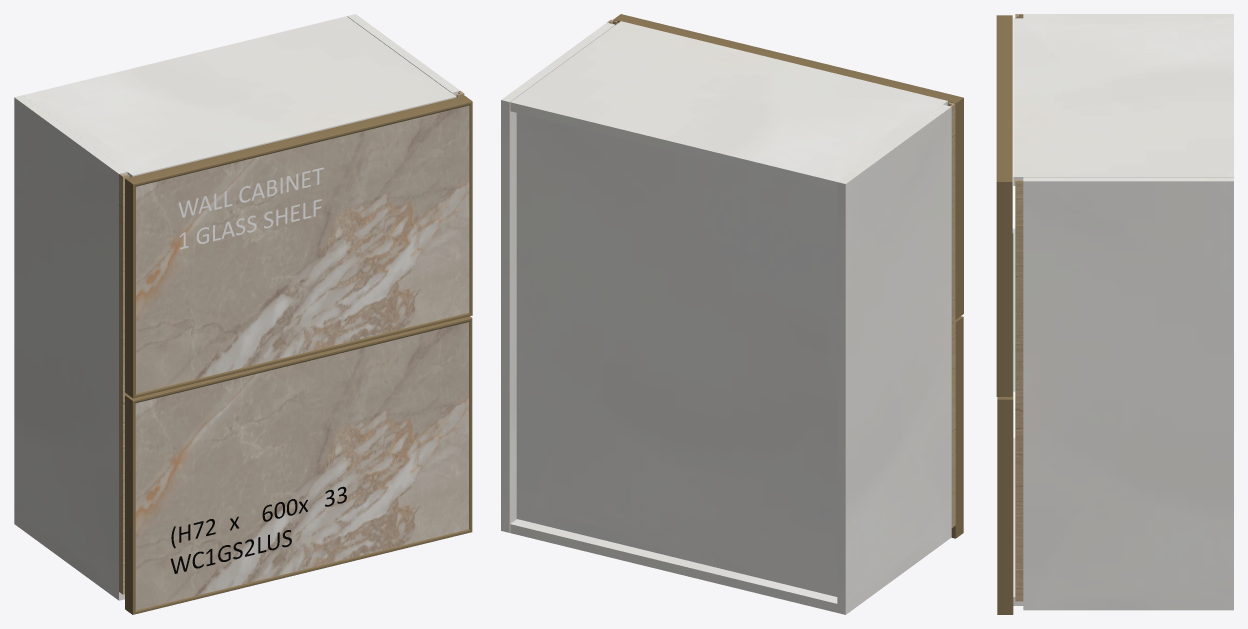
The model's file is WC-LU-NHX-ST-1SG-XXX-XXX-600-725-336-15.glb.
3 views of the same model, side by side, from view 1: azimuth 30°, elevation 25°; view 2: azimuth 150°, elevation 25°; view 3: azimuth 270°, elevation 25° (orthographic).
Visible parts, largest first — view 1: Object_node_4, Object_node_6, TP_node_0, TP, Extrusion_node_2, Object_node_8, Extrusion_node_5, Extrusion_node_1, Extrusion, 2D text, Extrusion_node_0, Extrusion_node_4 (+5 smaller); view 2: TP_node_2, TP_node_0, TP, TP_node_1, TP_node, Extrusion_node_2, Object_node_8, Extrusion_node_1, Extrusion_node_5; view 3: TP_node_1, TP, Object_node_16, Extrusion_node, Extrusion_node_3, Extrusion_node_2, TP_node_0, TP_node, Extrusion.
Part boxes in pixels (bbox=[...]): Object_node_4: bbox=[135, 322, 468, 610]; Object_node_6: bbox=[136, 105, 469, 393]; TP_node_0: bbox=[14, 95, 127, 600]; TP: bbox=[23, 16, 456, 177]; Extrusion_node_2: bbox=[125, 95, 472, 186]; Object_node_8: bbox=[119, 173, 129, 594]; Extrusion_node_5: bbox=[125, 178, 135, 397]; Extrusion_node_1: bbox=[125, 395, 135, 614]; Extrusion: bbox=[125, 316, 472, 402]; 2D text: bbox=[178, 167, 323, 249]; Extrusion_node_0: bbox=[133, 529, 471, 614]; Extrusion_node_4: bbox=[133, 313, 472, 398]; TP_node_2: bbox=[516, 113, 837, 596]; TP_node_0: bbox=[837, 104, 951, 614]; TP: bbox=[510, 21, 947, 190]; TP_node_1: bbox=[501, 22, 614, 532]; TP_node: bbox=[510, 519, 837, 612]; Extrusion_node_2: bbox=[613, 14, 963, 103]; Object_node_8: bbox=[947, 102, 955, 527]; Extrusion_node_1: bbox=[951, 317, 963, 538]; Extrusion_node_5: bbox=[955, 98, 963, 319]; TP_node_1: bbox=[1023, 177, 1233, 610]; TP: bbox=[1013, 18, 1233, 185]; Object_node_16: bbox=[1015, 178, 1023, 601]; Extrusion_node: bbox=[997, 399, 1013, 614]; Extrusion_node_3: bbox=[996, 182, 1012, 396]; Extrusion_node_2: bbox=[996, 15, 1012, 181]; TP_node_0: bbox=[1023, 14, 1233, 18]; TP_node: bbox=[1013, 438, 1023, 605]; Extrusion: bbox=[997, 233, 1013, 399].
Size of what is drawn, in the model's own units: 0.6 by 0.725 by 0.366.
Materials: 7 (3 with a texture image).
